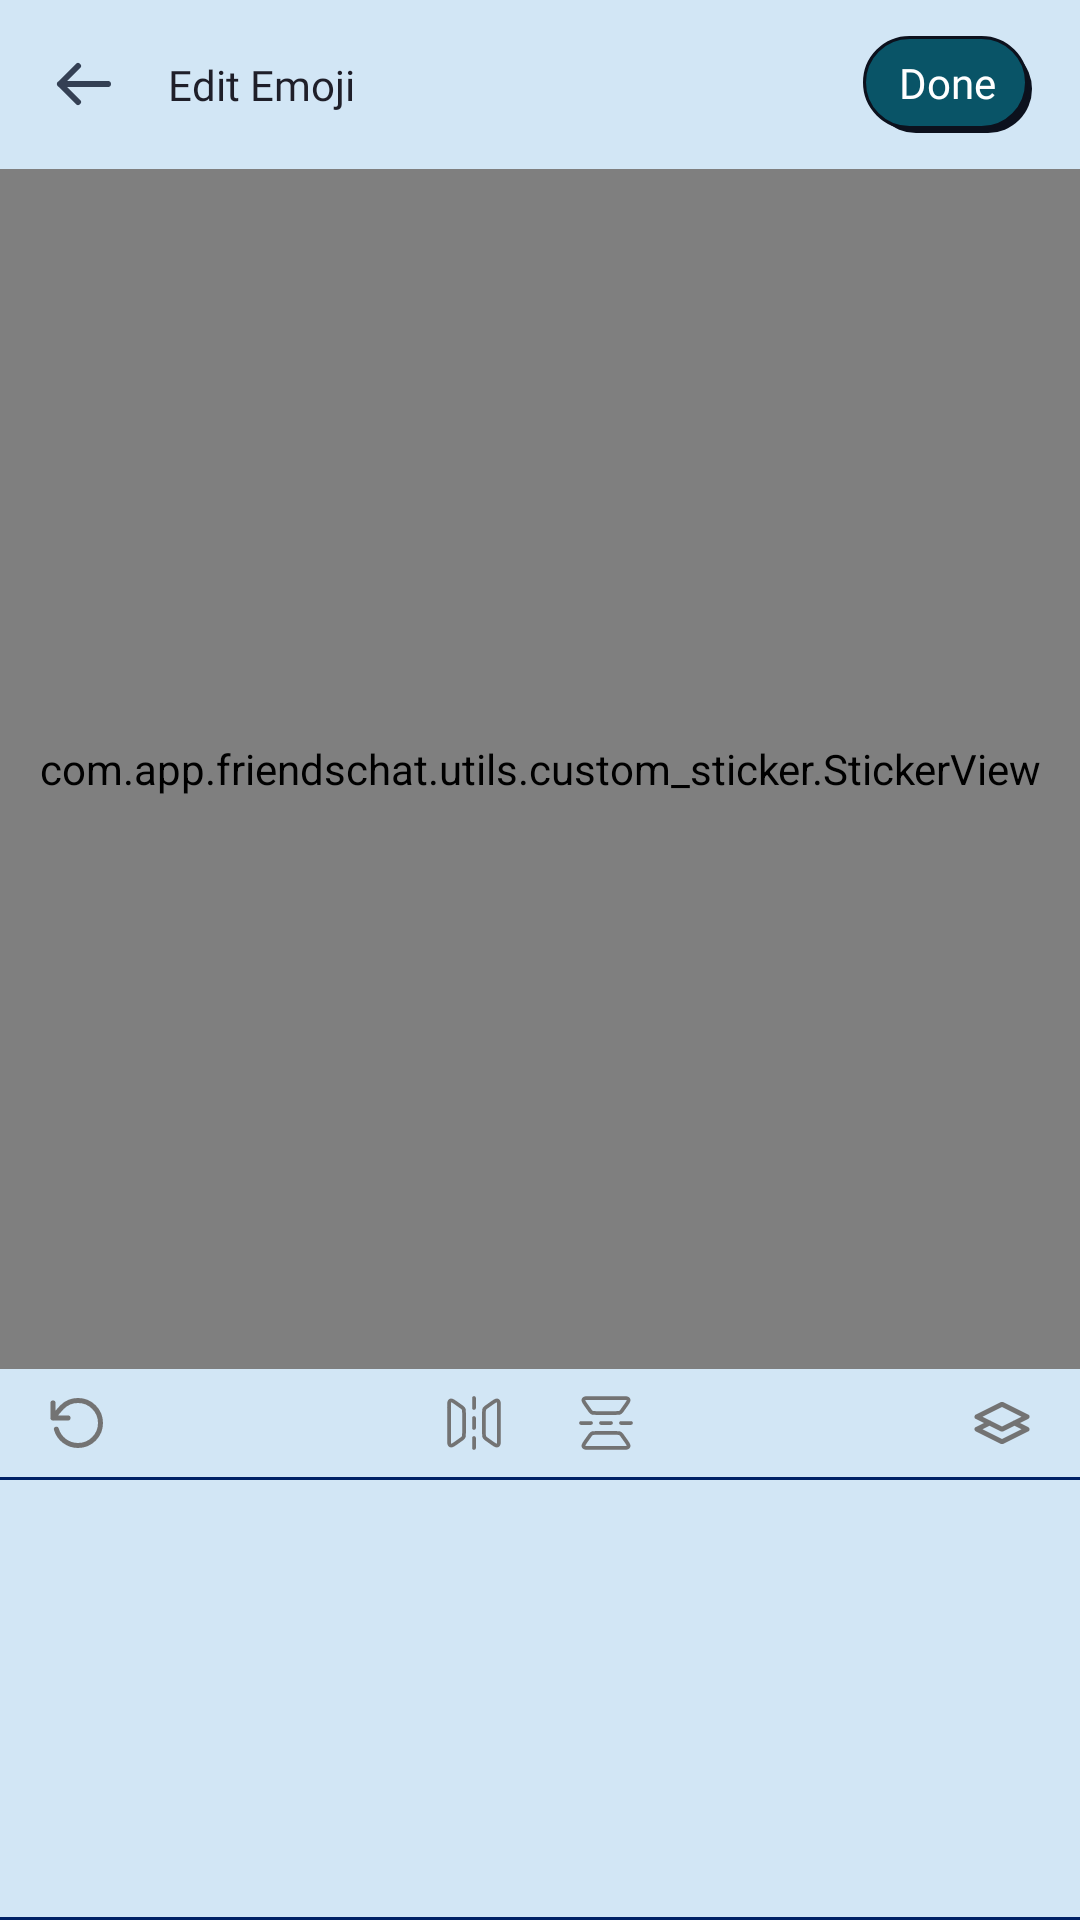

Icon click points for this 1080 x 1920 phone screenshot, format [x,y]:
back: [84,84]
flip horizontal: [474,1423]
flip vertical: [606,1423]
refresh: [76,1423]
